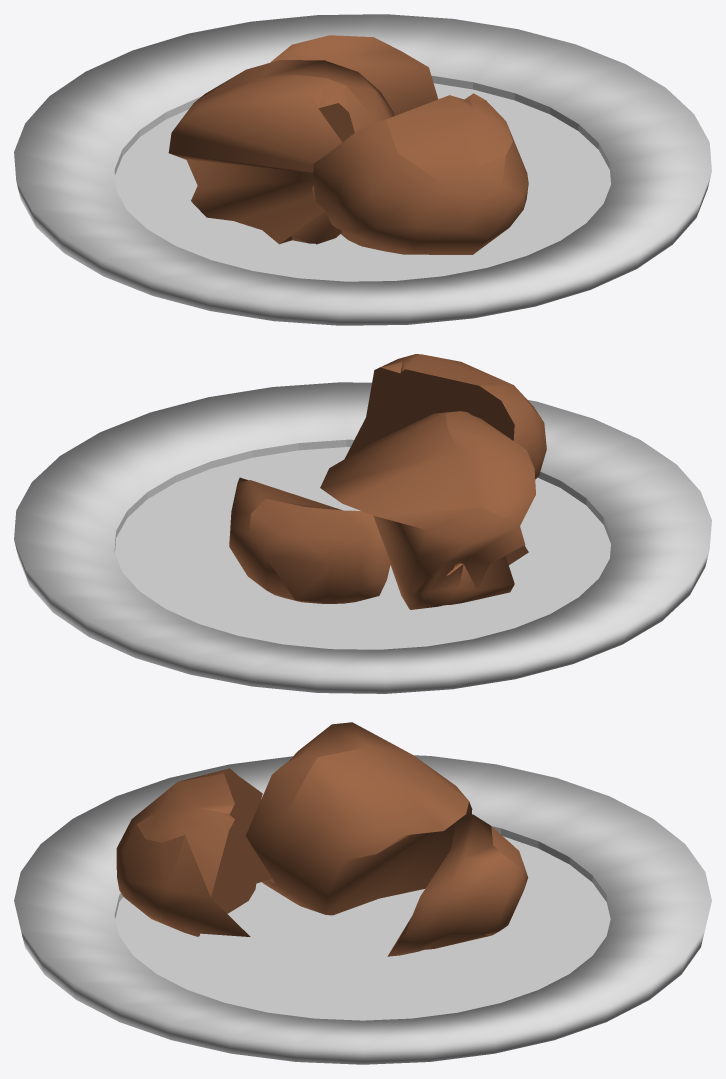
Rendered from processedPotato.fbx.
The picture shows the model from 3 angles, top to bottom: view 1: azimuth 30°, elevation 25°; view 2: azimuth 150°, elevation 25°; view 3: azimuth 270°, elevation 25°; orthographic projection.
Visible parts, largest first — view 1: potato; view 2: potato; view 3: potato.
Part boxes in pixels (x1=…): potato: x1=14, y1=14, x2=711, y2=325; potato: x1=14, y1=354, x2=711, y2=693; potato: x1=14, y1=722, x2=711, y2=1064.
Bounding box in the file's own units: 178 × 46.81 × 178.
